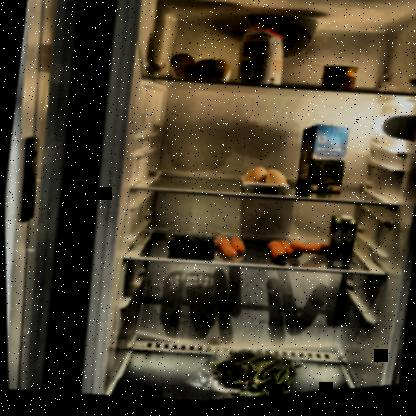blueberries: (163, 232, 216, 264)
carrot: (264, 238, 330, 273), (212, 237, 250, 267)
corn: (318, 67, 359, 97)
eggs: (245, 166, 290, 197)
green_beans: (200, 343, 306, 403)
heavy_cream: (323, 215, 360, 272)
milk: (296, 124, 352, 204)
potato: (167, 52, 237, 90)
